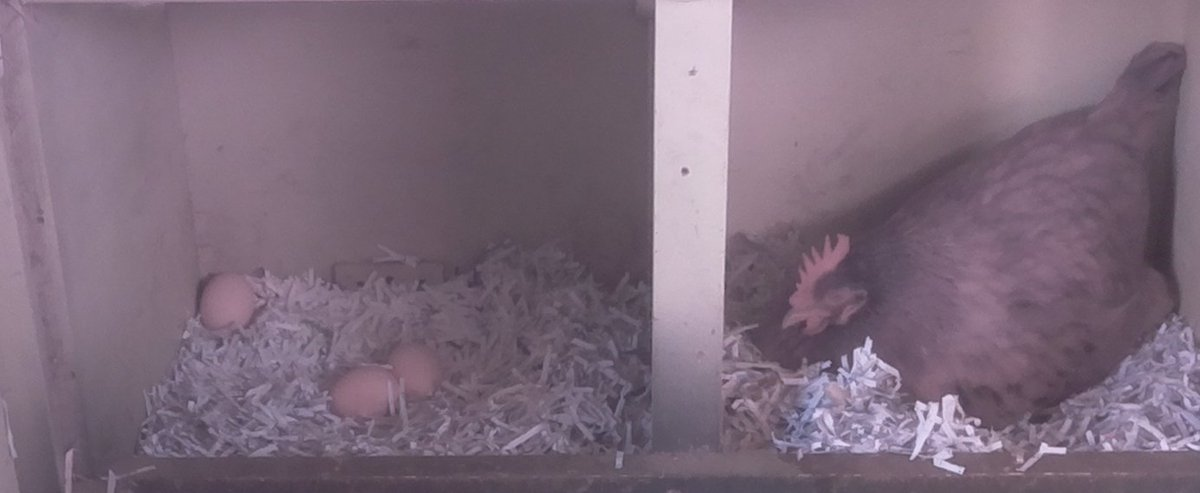egg: (329, 365, 405, 425), (193, 269, 258, 338), (387, 340, 444, 408)
hen: (765, 46, 1180, 433)
